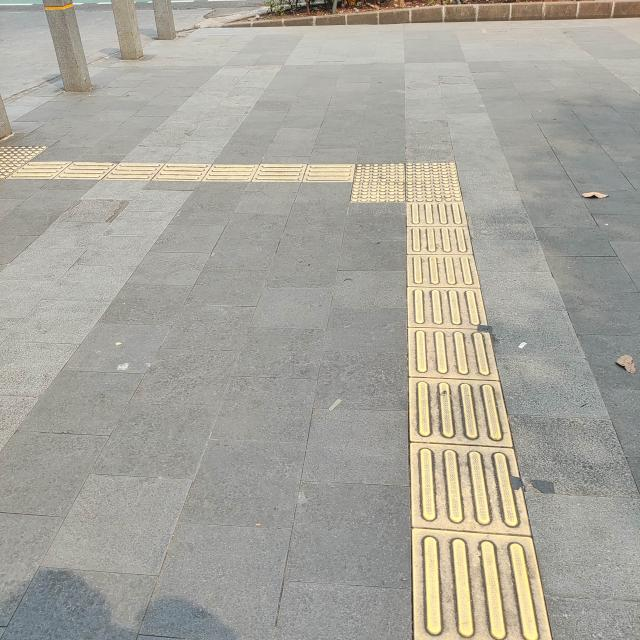kiri: (268, 123, 500, 241)
